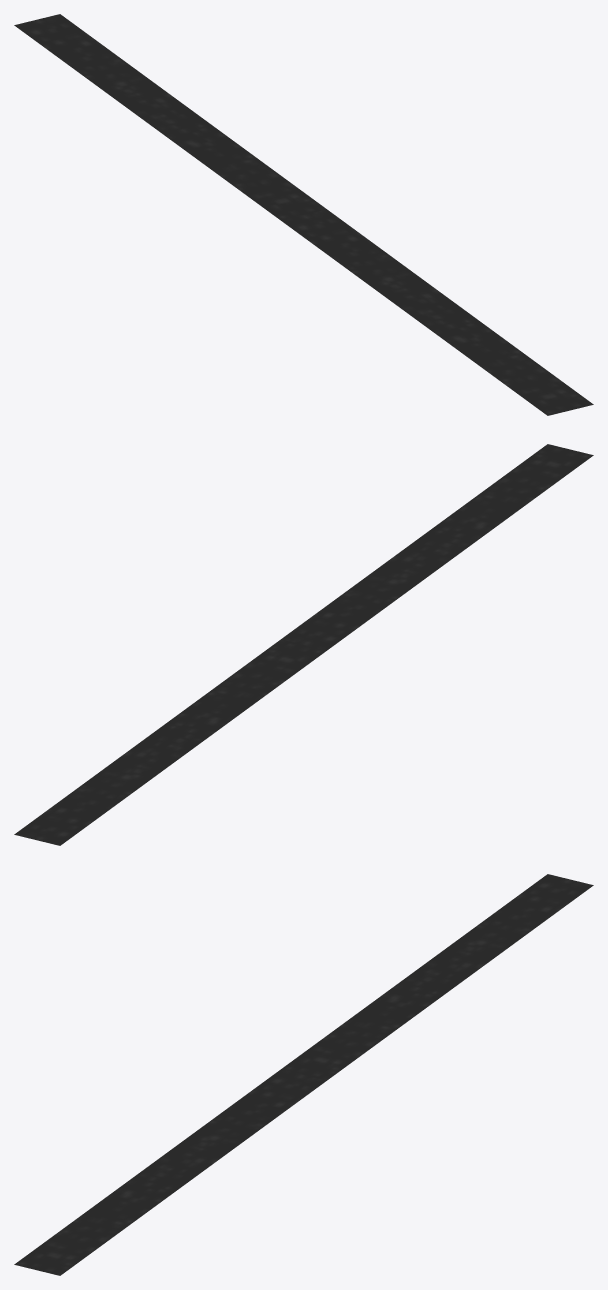
File: SW_ENV_RailBase_Narrow_10m.fbx
The picture shows the model from 3 angles, top to bottom: view 1: azimuth 30°, elevation 25°; view 2: azimuth 150°, elevation 25°; view 3: azimuth 330°, elevation 25°; orthographic projection.
Parts seen in each view (by area): view 1: SW_ENV_RailBase_Narrow_10m; view 2: SW_ENV_RailBase_Narrow_10m; view 3: SW_ENV_RailBase_Narrow_10m.
Boxes of the visible parts, left/top/right/bottom form: SW_ENV_RailBase_Narrow_10m: left=14, top=14, right=593, bottom=415; SW_ENV_RailBase_Narrow_10m: left=14, top=444, right=593, bottom=845; SW_ENV_RailBase_Narrow_10m: left=14, top=874, right=593, bottom=1275.
Bounding box in the file's own units: 50 × 6.21e-07 × 1000.
